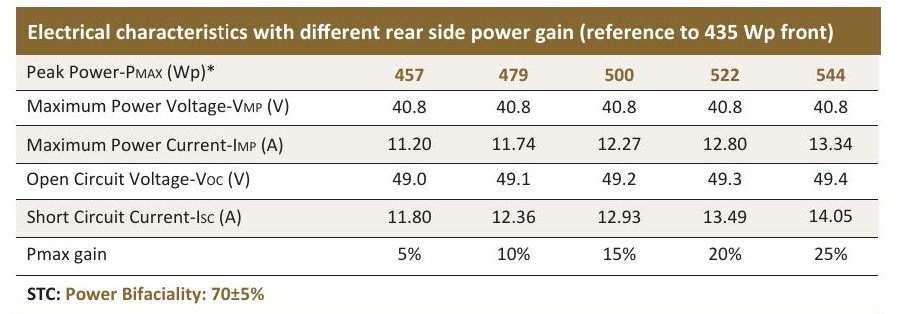table: (9, 45, 886, 281)
table column: (22, 49, 340, 275), (783, 46, 877, 276), (365, 47, 457, 276), (580, 46, 665, 279), (684, 48, 764, 278), (478, 48, 555, 279)
table row: (11, 201, 884, 236), (12, 127, 883, 162), (14, 56, 882, 91), (11, 164, 885, 197), (14, 92, 883, 124), (11, 240, 883, 271)
